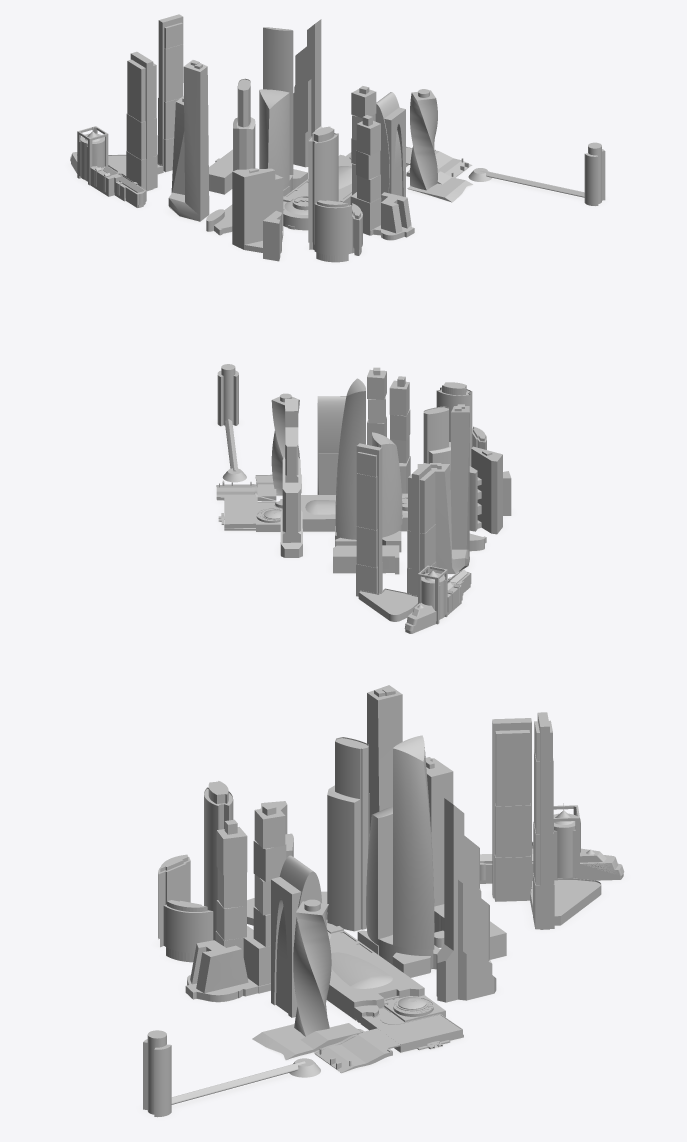
The model's file is city-3d.gltf.
The picture shows the model from 3 angles, top to bottom: view 1: azimuth 30°, elevation 25°; view 2: azimuth 150°, elevation 25°; view 3: azimuth 270°, elevation 25°; orthographic projection. The views are drawn at different scales.
Parts seen in each view (by area): view 1: SketchUp, Plane; view 2: SketchUp, Plane; view 3: SketchUp, Plane.
Boxes of the visible parts, <box> form: SketchUp: <box>70,14,605,262</box>; Plane: <box>69,163,604,263</box>; SketchUp: <box>216,364,511,633</box>; Plane: <box>216,421,512,634</box>; SketchUp: <box>143,685,624,1117</box>; Plane: <box>142,875,624,1117</box>.
Size of the model in its own units: 1014 by 373 by 1014.
2 materials, 1 textured.
